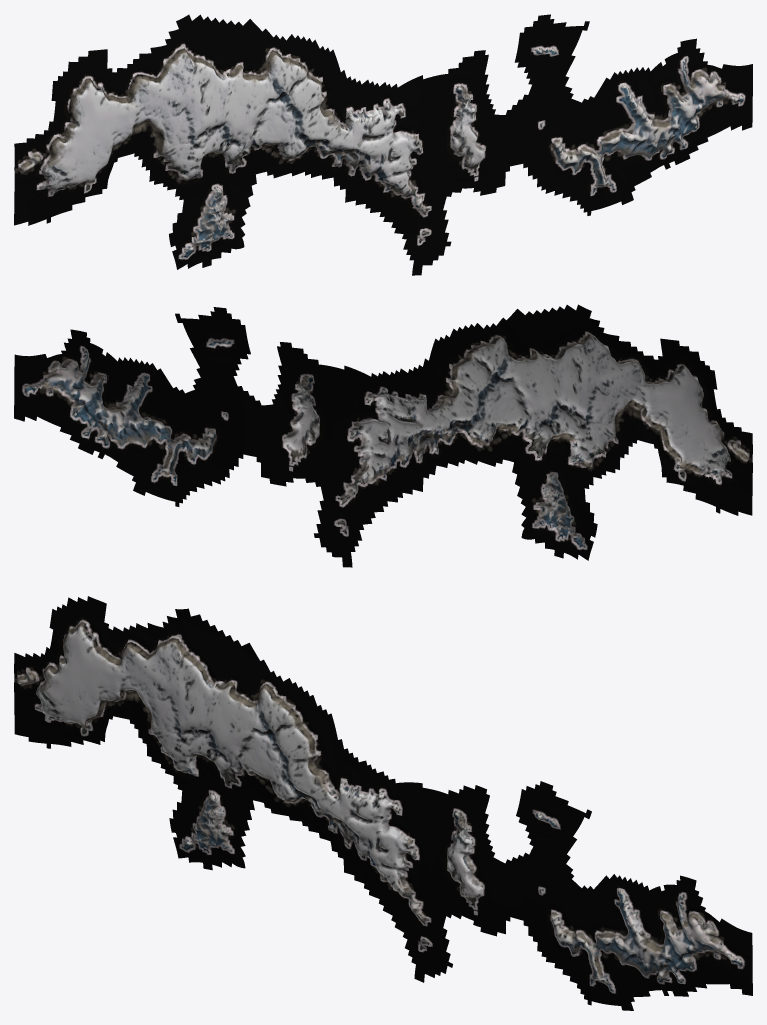
The model's file is orcadas_final.fbx.
3 renders of one model, top to bottom at view 1: azimuth 30°, elevation 25°; view 2: azimuth 150°, elevation 25°; view 3: azimuth 330°, elevation 25°, orthographic.
Parts seen in each view (by area): view 1: orcadas_low; view 2: orcadas_low; view 3: orcadas_low.
Boxes of the visible parts, box(x1,y1,x2,y2) form: orcadas_low: box(14, 14, 752, 275); orcadas_low: box(14, 304, 752, 567); orcadas_low: box(14, 596, 752, 1010).
Bounding box in the file's own units: 200 × 82.53 × 4.56.
1 material, 1 textured.
